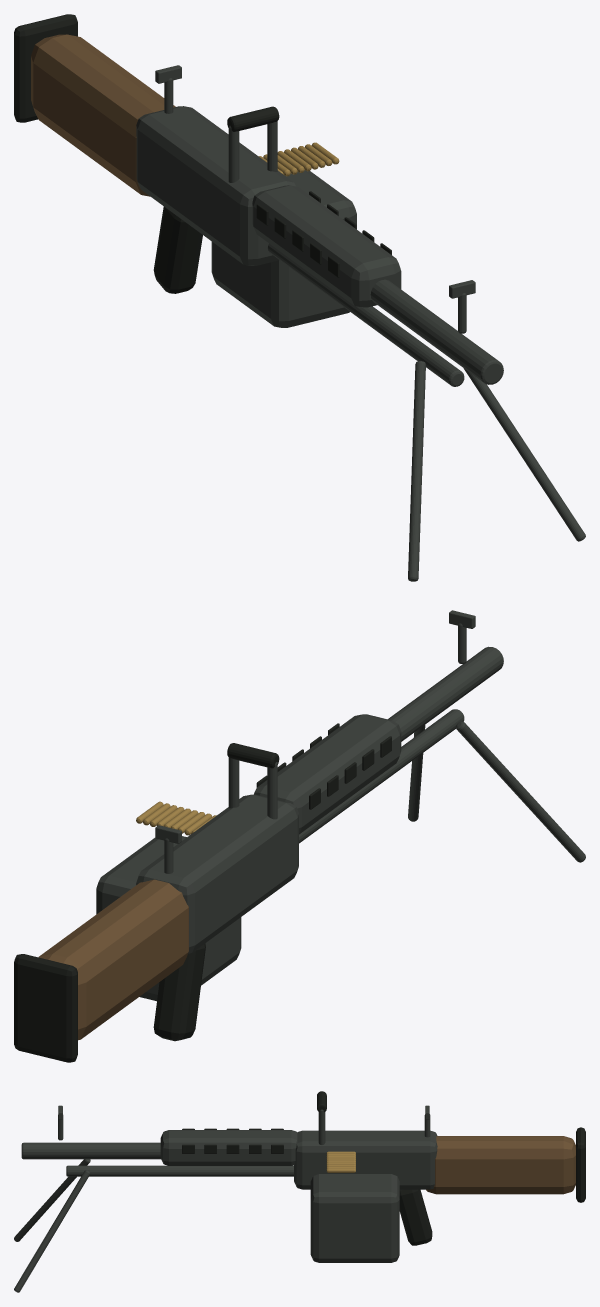
Rendered from FieldRifle.fbx.
3 views of the same model, one above another, from view 1: azimuth 30°, elevation 25°; view 2: azimuth 150°, elevation 25°; view 3: azimuth 270°, elevation 25° (orthographic). The views are drawn at different scales.
Parts seen in each view (by area): view 1: FieldRifle; view 2: FieldRifle; view 3: FieldRifle.
Part boxes in pixels (x1,y1,x2,y2): FieldRifle: (14,14,585,581); FieldRifle: (14,610,585,1062); FieldRifle: (14,1091,585,1292).
Bounding box in the file's own units: 24.46 × 103 × 33.64.
